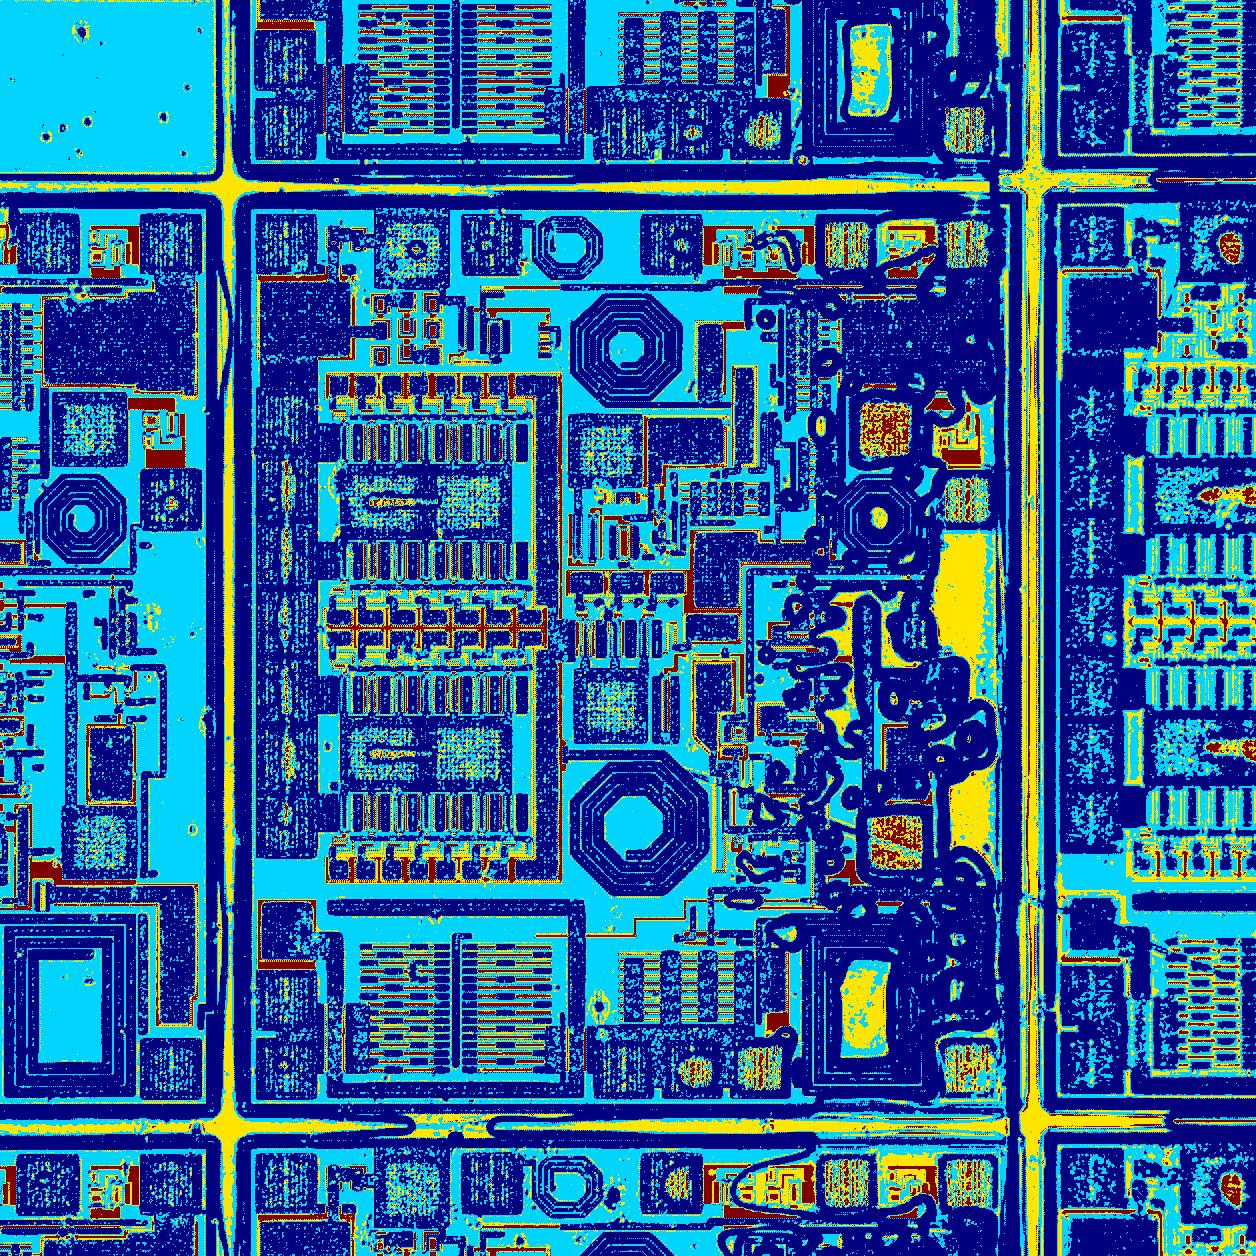Die: (237, 192, 1012, 1117)
Pad 1: (350, 726, 416, 781), (382, 219, 442, 279), (349, 475, 415, 529), (437, 727, 504, 780), (436, 475, 501, 527), (581, 680, 640, 735), (868, 814, 924, 871), (580, 424, 636, 475), (859, 403, 911, 457)
Pad 2: (259, 658, 316, 720), (259, 592, 313, 656), (259, 457, 314, 518), (260, 796, 314, 855), (260, 523, 312, 583), (260, 730, 313, 787), (261, 392, 311, 452), (648, 220, 700, 271), (465, 220, 518, 271), (260, 219, 312, 270), (263, 1046, 316, 1094), (944, 1046, 997, 1093), (261, 977, 311, 1026), (825, 221, 870, 268), (945, 220, 990, 267), (944, 476, 989, 521), (737, 1046, 782, 1090), (671, 1047, 715, 1092), (600, 1048, 645, 1092)
